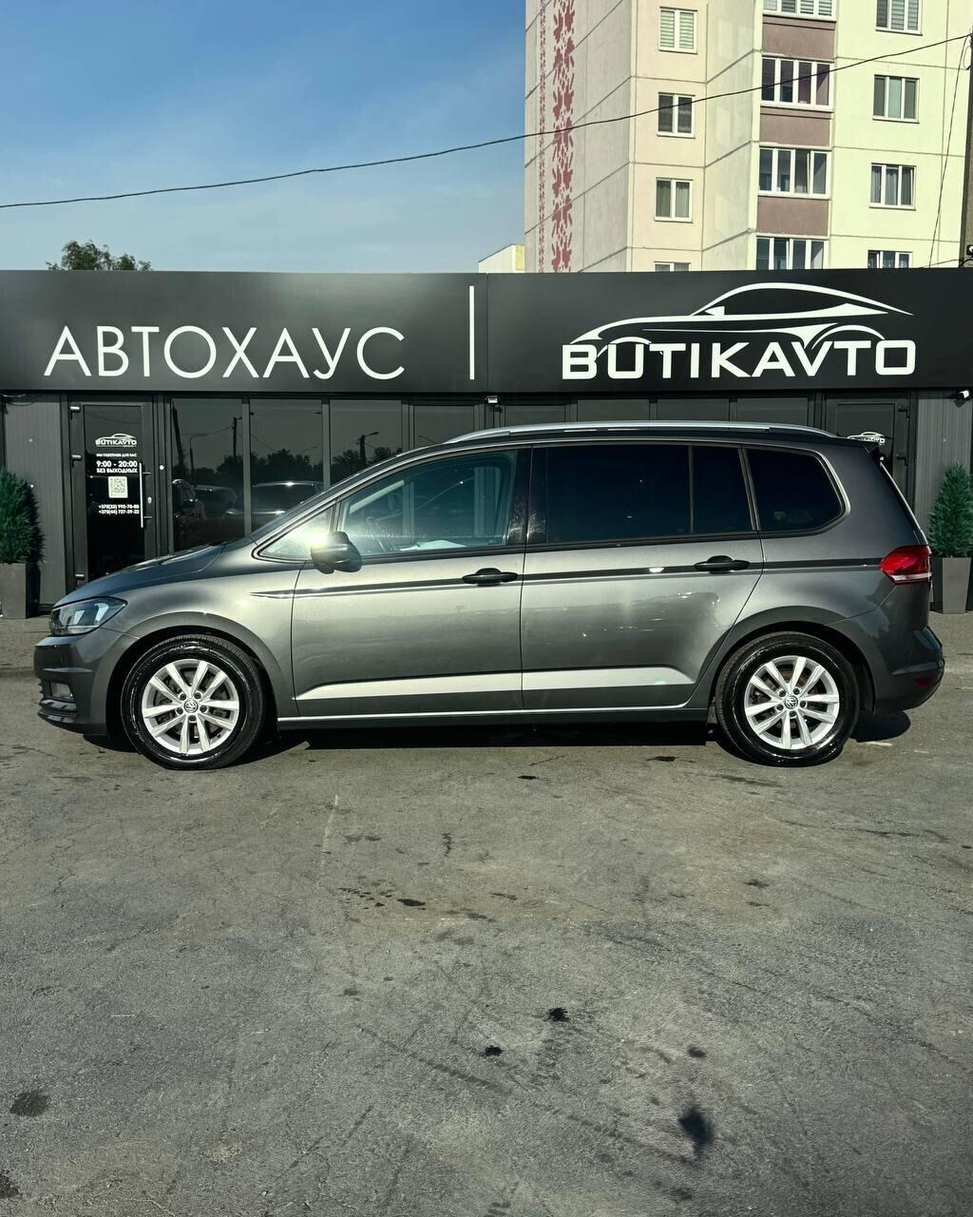Touran_2015: (35, 414, 947, 773)
